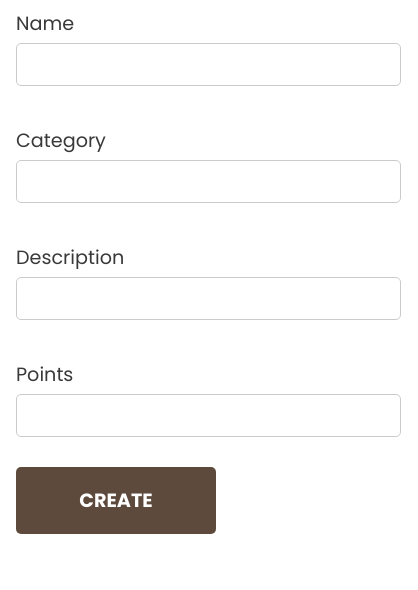
it: Create Task Component › should throw error message if any input is missing
In the field with test id "name-input": [209, 64] box x1=16 y1=43 x2=401 y2=86, type "Bench Press"
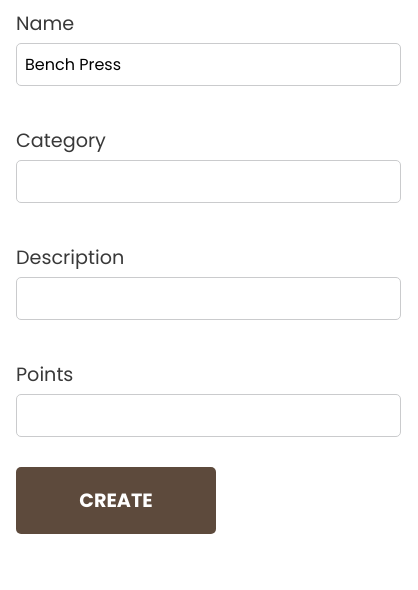
Click the button "Create": [116, 501] box x1=16 y1=467 x2=216 y2=534
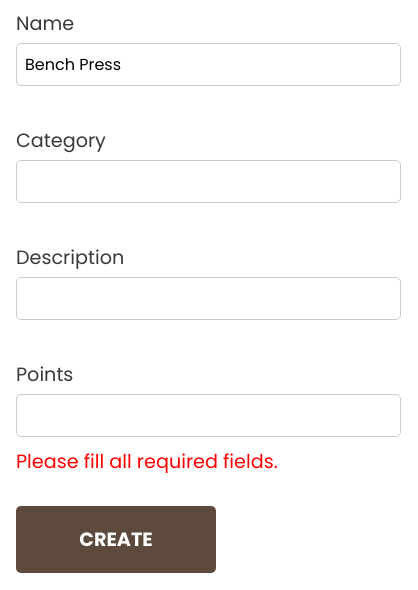
Expected: the text "Please fill all required fields." is shown, x1=16 y1=448 x2=278 y2=475
